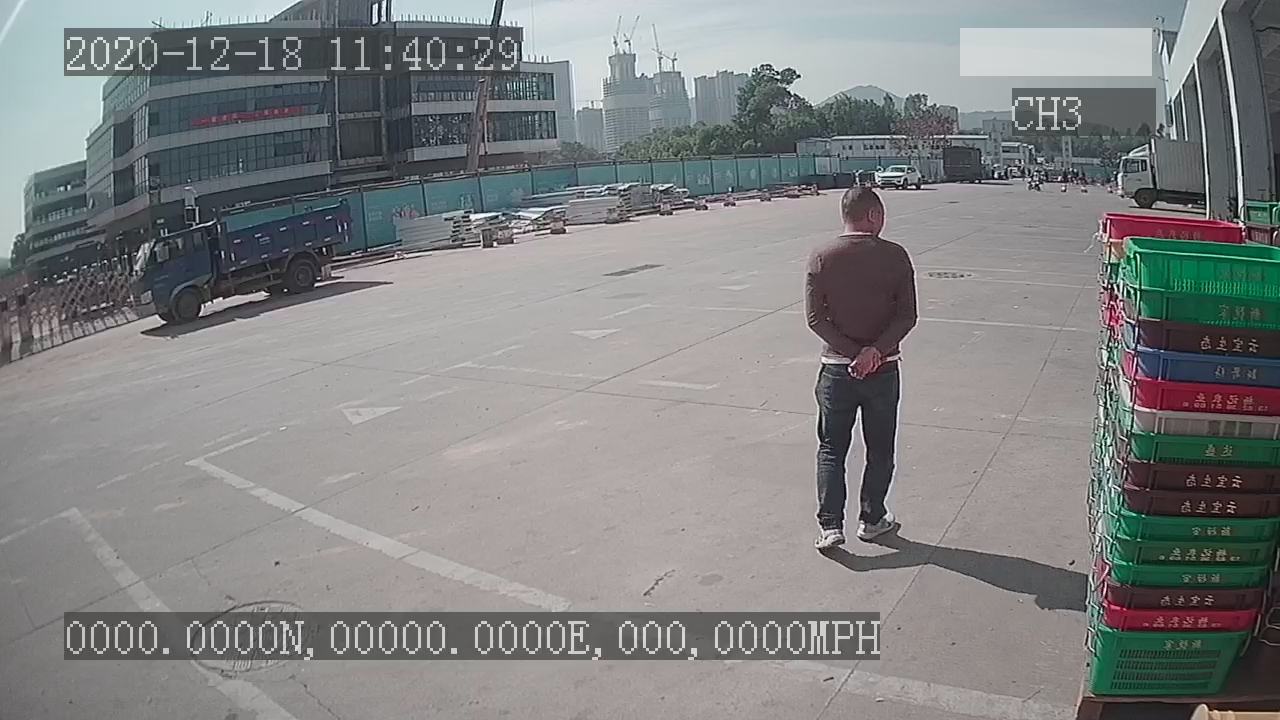person: (799, 184, 919, 554)
